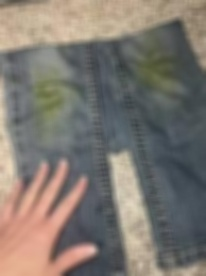earth: (33, 71, 66, 139), (135, 44, 174, 88)
